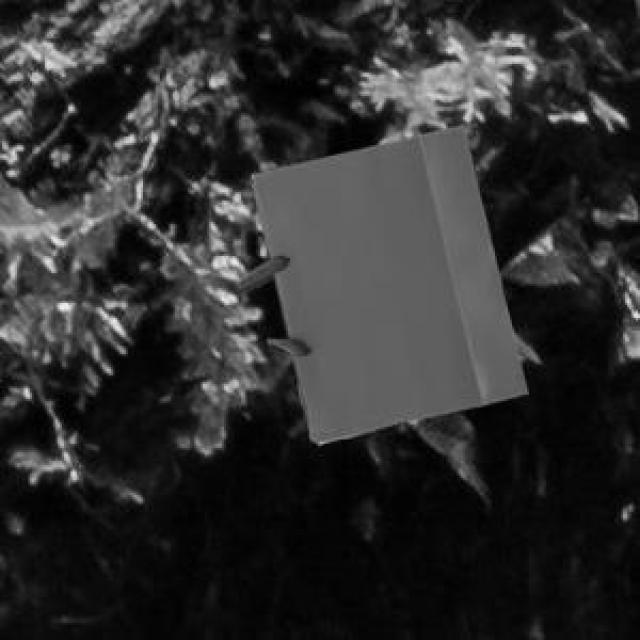paper: (233, 122, 523, 440)
